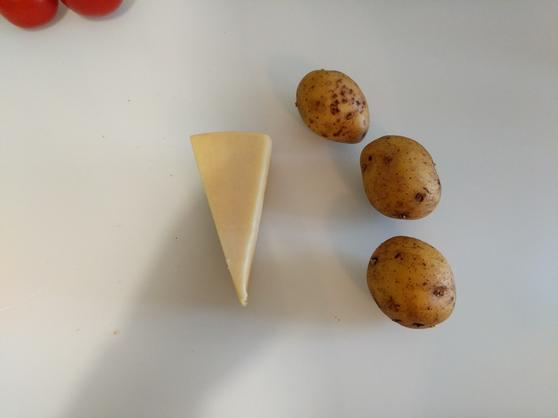cheese: (195, 130, 275, 306)
potato: (363, 237, 459, 330), (359, 134, 445, 222), (297, 68, 370, 143)
